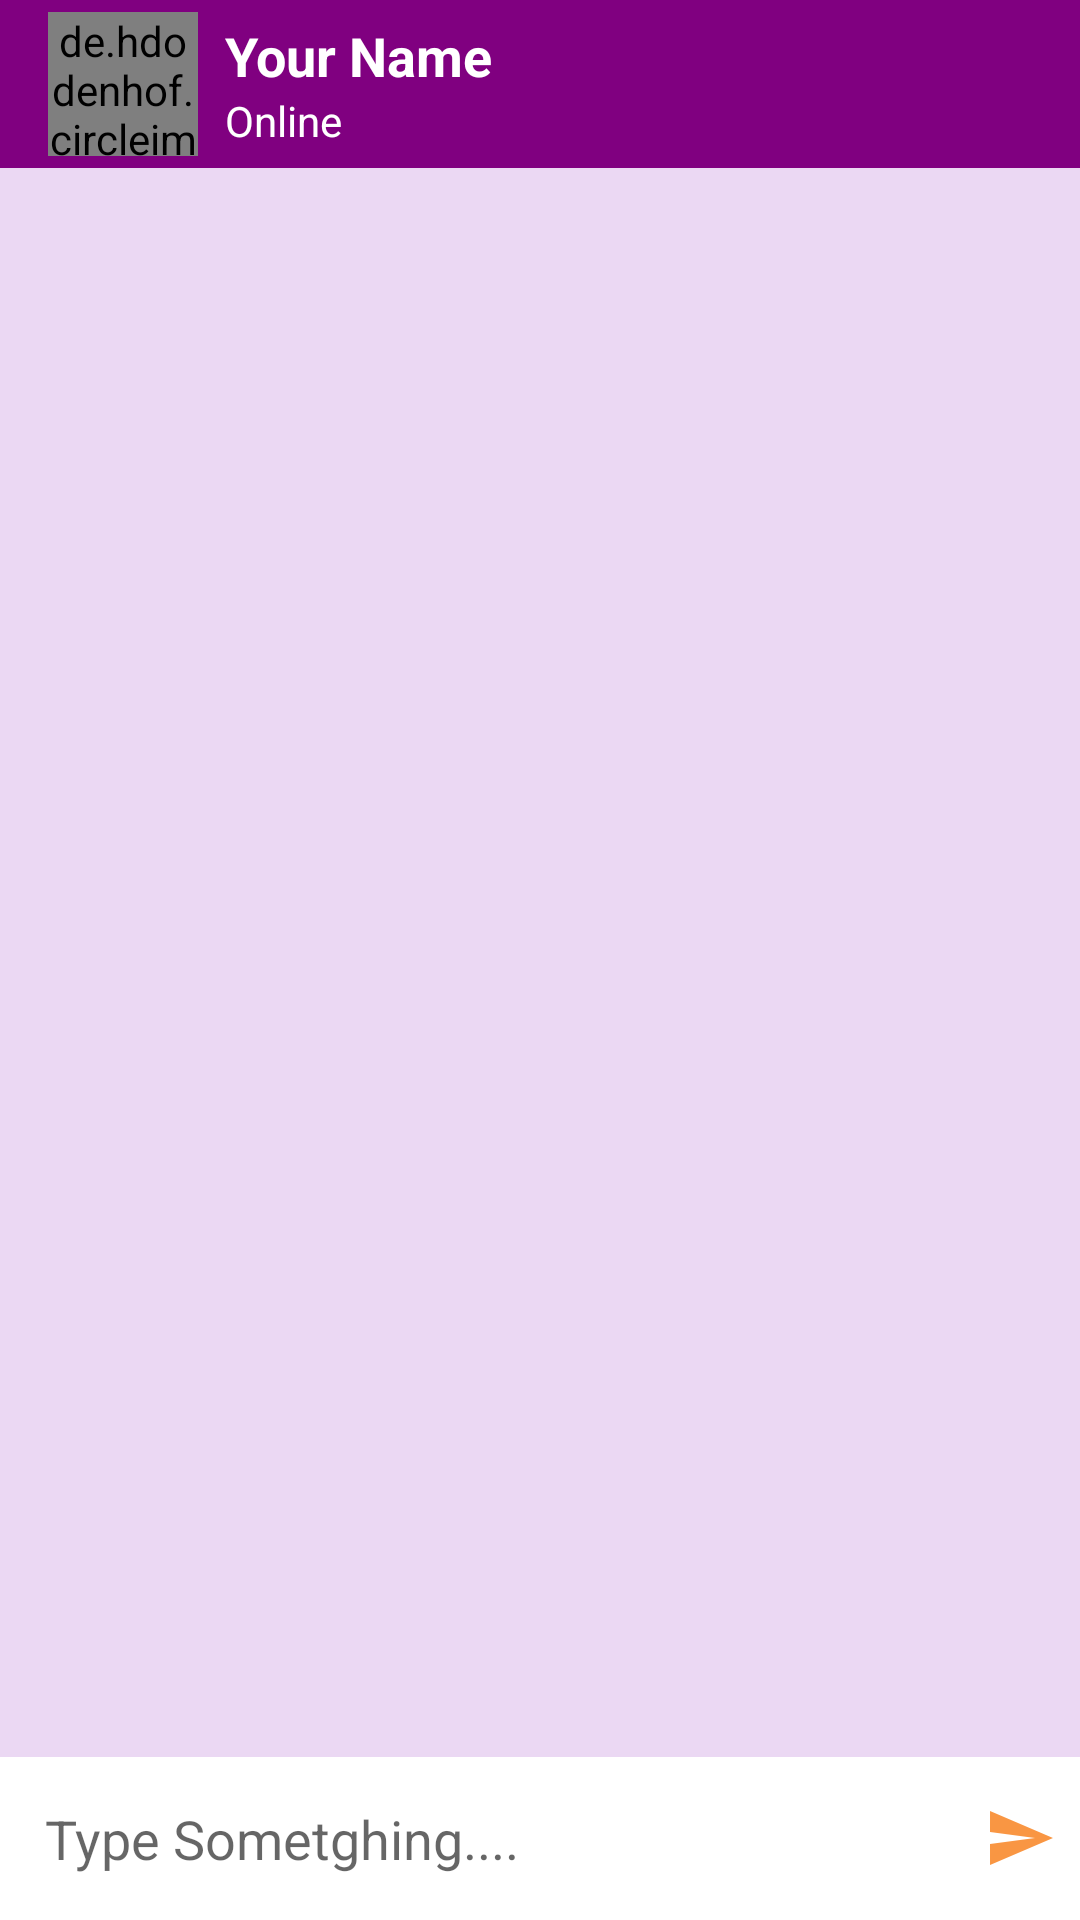

Named icons in this screenshot (1080 x 1920) and their bounding boxes, rect(x1, y1, x2, y2):
send: rect(990, 1811, 1053, 1865)
